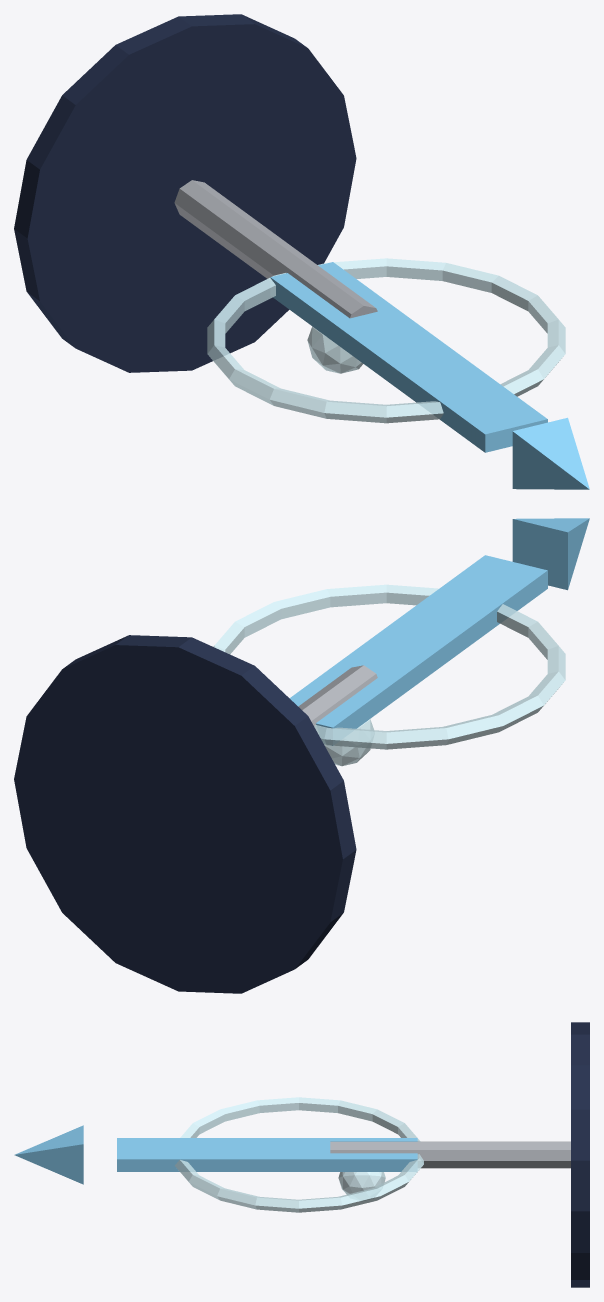
File: 04_high_tier_magic_weapon_aura.glb
3 views of the same model, one above another, from view 1: azimuth 30°, elevation 25°; view 2: azimuth 150°, elevation 25°; view 3: azimuth 270°, elevation 25° (orthographic). The views are drawn at different scales.
Parts seen in each view (by area): view 1: weapon_display_base, magic_blade_core, weapon_enchant_orbit, weapon_grip, magic_blade_tip, weapon_gem; view 2: weapon_display_base, magic_blade_core, weapon_enchant_orbit, magic_blade_tip, weapon_grip, weapon_gem; view 3: magic_blade_core, weapon_enchant_orbit, weapon_grip, weapon_display_base, magic_blade_tip, weapon_gem.
Boxes of the visible parts, x1,y1,x2,y2 form: weapon_display_base: (14,14,356,372); magic_blade_core: (270,262,547,452); weapon_enchant_orbit: (207,258,565,423); weapon_grip: (174,180,377,318); magic_blade_tip: (512,417,589,489); weapon_gem: (307,326,363,373); weapon_display_base: (14,635,356,993); magic_blade_core: (289,555,547,745); weapon_enchant_orbit: (213,584,565,749); magic_blade_tip: (512,518,589,590); weapon_grip: (298,665,377,733); weapon_gem: (324,719,373,766); magic_blade_core: (117,1138,417,1171); weapon_enchant_orbit: (175,1097,423,1212); weapon_grip: (330,1141,570,1168); weapon_display_base: (571,1022,589,1287); magic_blade_tip: (14,1125,83,1184); weapon_gem: (338,1172,385,1194).
Bounding box in the file's own units: 0.84 × 0.84 × 1.82.
